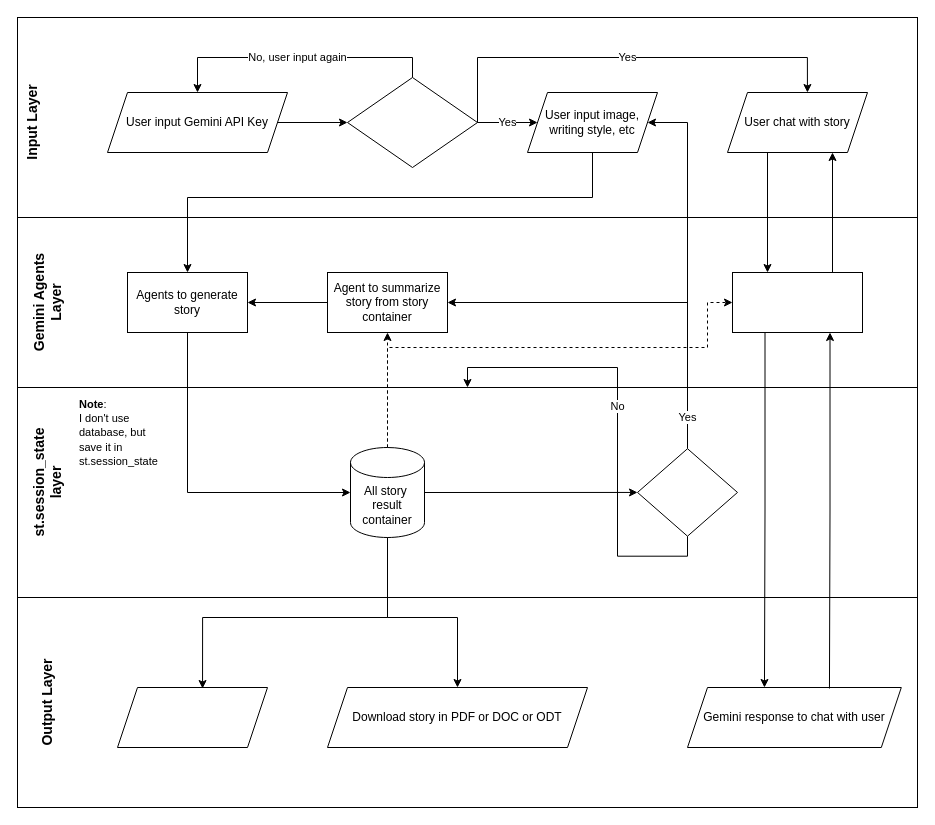
Image size: 935x825. Some labels were removed from this diagram. Here are the shapes that lost their labels. From the top down, the centre of each, then its label:
(x=412, y=122): API-key exist?
(x=797, y=302): Agent to chat with story
(x=687, y=492): User generate story again?
(x=192, y=717): Read story in app
